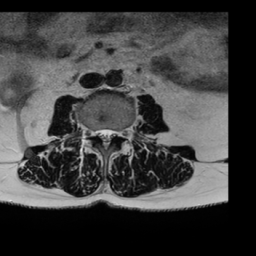CCS_normal: (102, 120, 109, 154)
LFS_stenosis: (116, 123, 124, 143)
LLS_normal: (109, 122, 116, 145)
RFS_stenosis: (88, 121, 95, 143)
RLS_normal: (95, 122, 102, 145)
